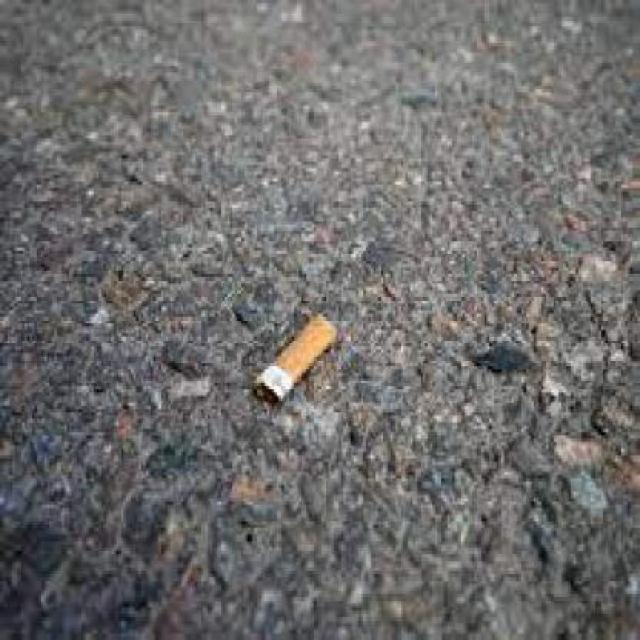cigarette: (252, 307, 368, 408)
